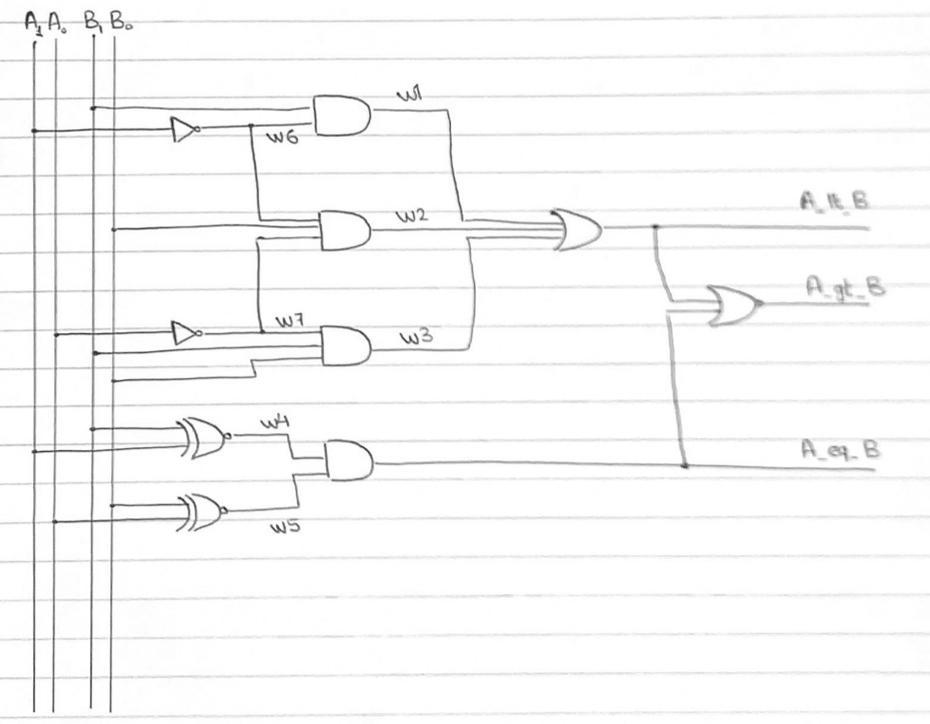AND: (316, 430, 389, 499), (306, 199, 382, 260), (314, 310, 382, 376), (301, 83, 377, 139)
NOR: (703, 274, 774, 341)
NOT: (160, 113, 210, 151), (163, 316, 208, 348)
OR: (539, 197, 611, 256)
XNOR: (164, 409, 242, 472), (167, 487, 238, 544)
